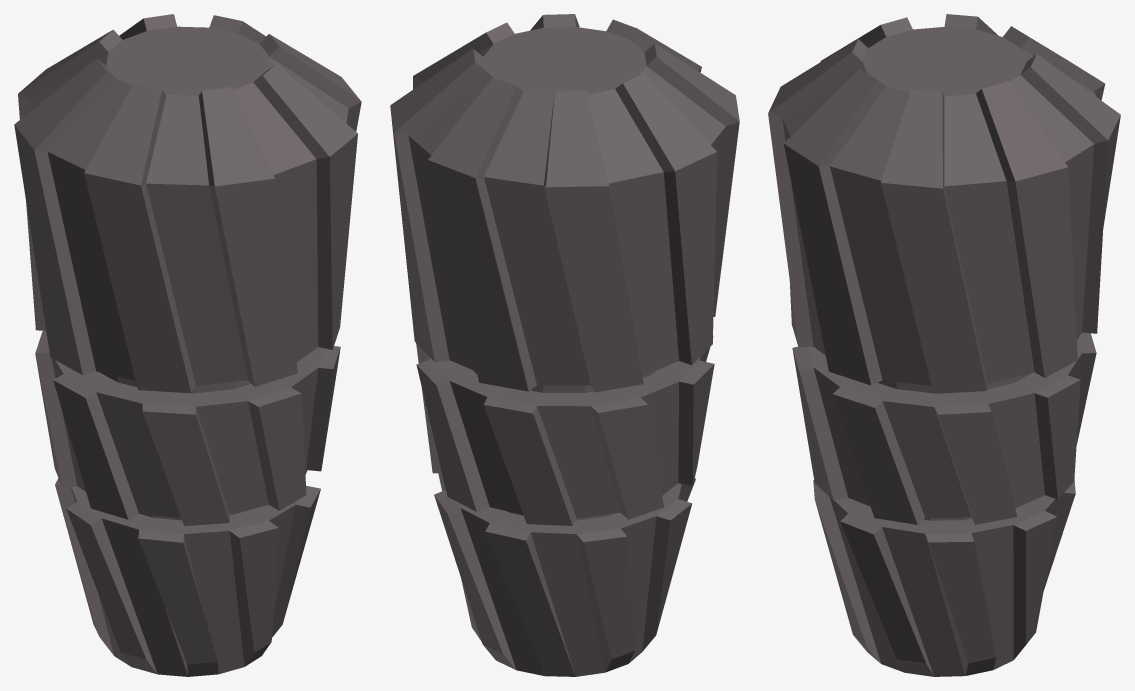
Rendered from Drill_bit.fbx.
3 views of the same model, side by side, from view 1: azimuth 30°, elevation 25°; view 2: azimuth 150°, elevation 25°; view 3: azimuth 270°, elevation 25° (orthographic).
Visible parts, largest first — view 1: Drill_bit; view 2: Drill_bit; view 3: Drill_bit.
Boxes of the visible parts, x1,y1,x2,y2 form: Drill_bit: [14, 14, 361, 676]; Drill_bit: [390, 14, 739, 676]; Drill_bit: [768, 14, 1120, 676].
Bounding box in the file's own units: 95.68 × 177 × 95.68.
